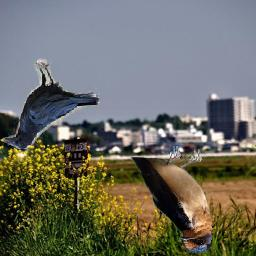Crow: (4, 59, 101, 150)
Swallow: (130, 147, 212, 254)
